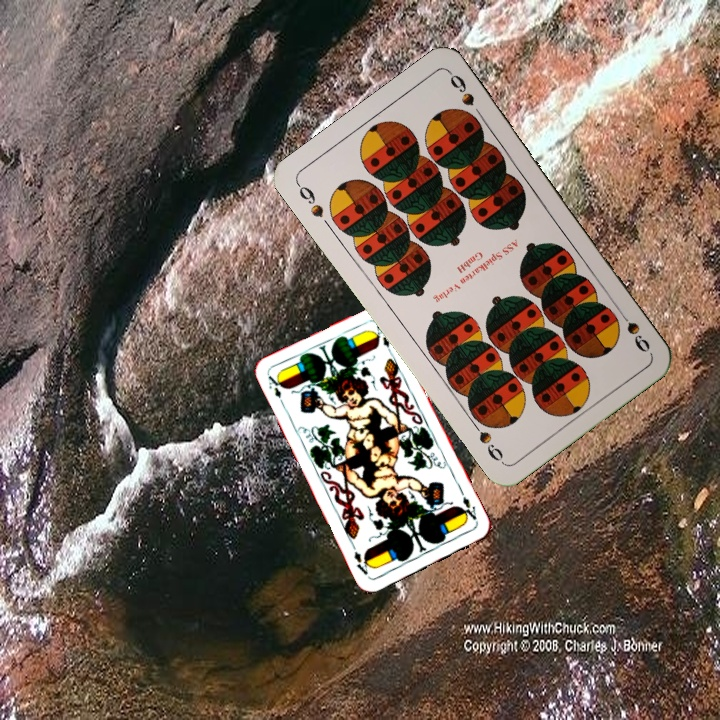EA: (264, 371, 287, 409), (457, 492, 479, 524)
S9: (612, 304, 653, 355), (293, 179, 327, 220)
